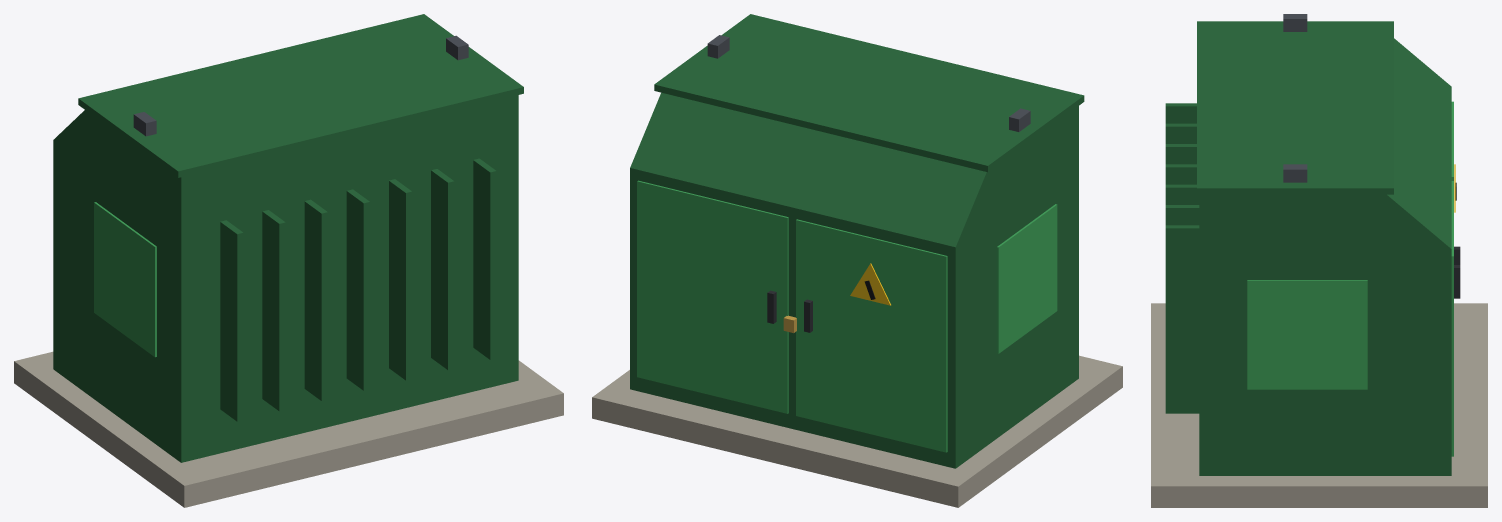
The model's file is prop_transformer.glb.
3 renders of one model, left to right at view 1: azimuth 30°, elevation 25°; view 2: azimuth 150°, elevation 25°; view 3: azimuth 270°, elevation 25°, orthographic. The views are drawn at different scales.
Visible parts, largest first — view 1: prop_transformer__mesh; view 2: prop_transformer__mesh; view 3: prop_transformer__mesh.
Boxes of the visible parts, x1=… form: prop_transformer__mesh: x1=14, y1=14, x2=563, y2=507; prop_transformer__mesh: x1=592, y1=14, x2=1122, y2=507; prop_transformer__mesh: x1=1151, y1=14, x2=1487, y2=507.
Bounding box in the file's own units: 1.8 × 1.49 × 1.4.
Materials: 1 (1 with a texture image).
